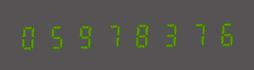eight: (125, 20, 151, 49)
five: (44, 21, 70, 50)
nine: (71, 20, 97, 50)
seven: (98, 20, 124, 50), (179, 19, 205, 48)
six: (206, 18, 232, 48)
three: (152, 19, 178, 49)
zero: (17, 21, 43, 51)
